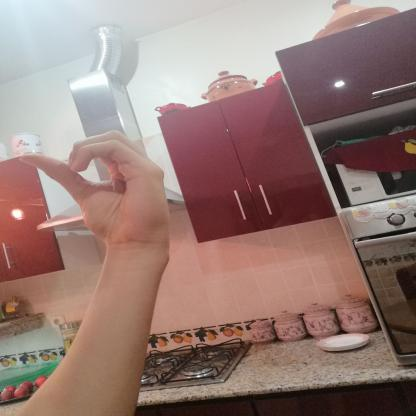WAW: (11, 124, 181, 258)
